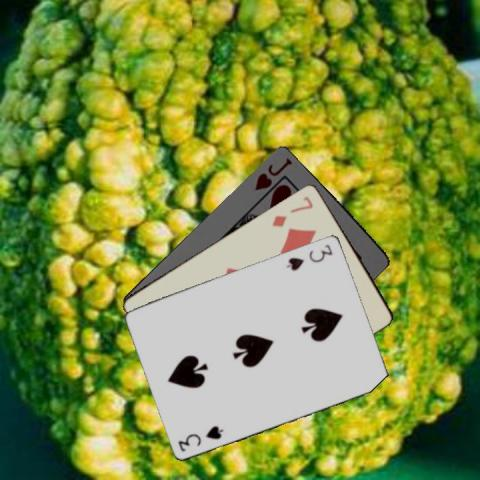3s: (283, 241, 334, 272), (176, 422, 226, 453)
7d: (268, 193, 314, 228)
Jh: (251, 154, 294, 192)
